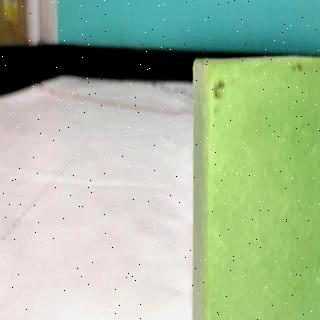greenbox: (190, 52, 320, 320)
